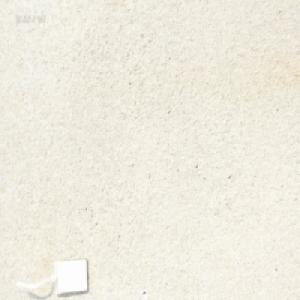LuggageTag: (14, 257, 88, 295)
